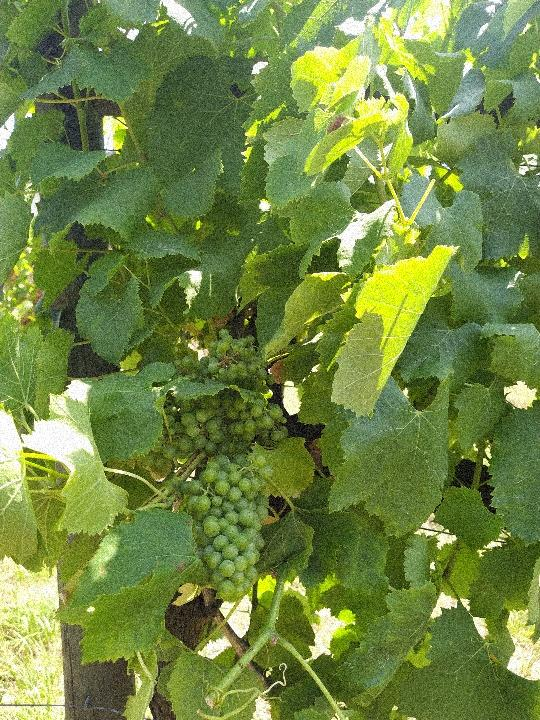grape: (140, 329, 308, 611)
